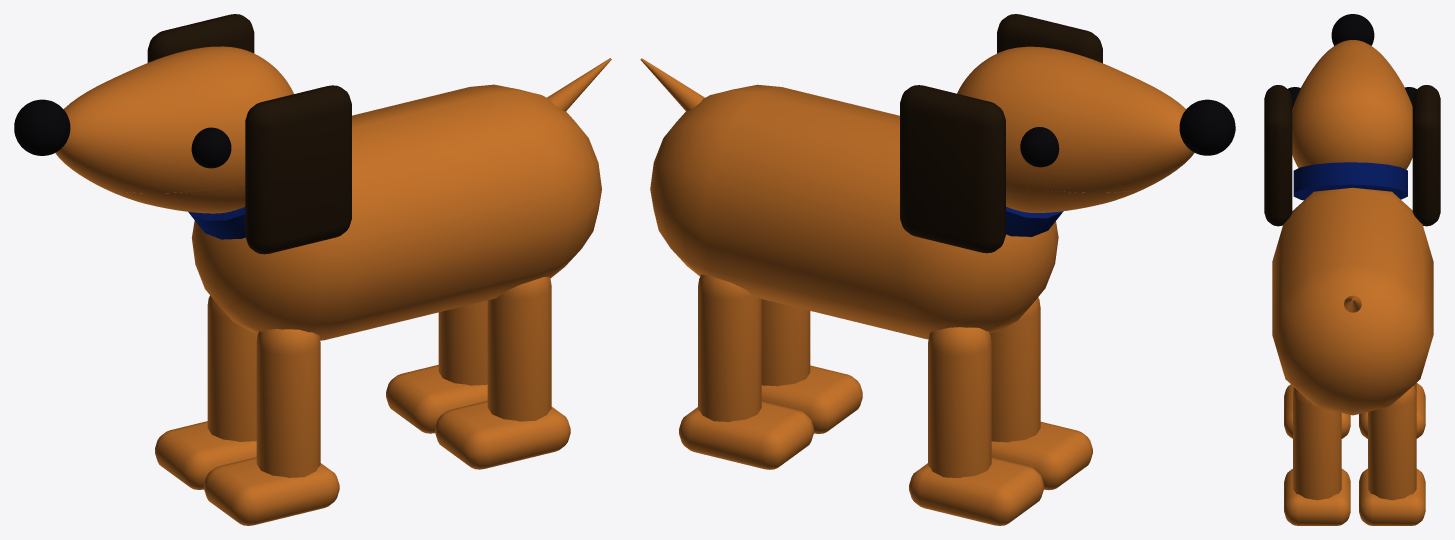
Rendered from dog2.dae.
3 views of the same model, side by side, from view 1: azimuth 30°, elevation 25°; view 2: azimuth 150°, elevation 25°; view 3: azimuth 270°, elevation 25° (orthographic). The views are drawn at different scales.
Parts seen in each view (by area): view 1: Capsule010, Sphere010, ChamferBox007, Capsule011, Capsule014, Capsule013, ChamferBox008, ChamferBox013, ChamferBox014, ChamferBox010, Capsule015, ChamferBox012 (+5 smaller); view 2: Capsule010, Sphere010, ChamferBox012, Capsule013, Capsule015, Capsule011, ChamferBox014, ChamferBox010, Capsule014, ChamferBox013, ChamferBox008, ChamferBox007 (+5 smaller); view 3: Capsule010, Sphere010, Capsule015, Capsule014, ChamferBox007, ChamferBox012, Cylinder001, ChamferBox013, ChamferBox014, Sphere012, ChamferBox010, ChamferBox008 (+1 smaller).
Boxes of the visible parts, box(x1,y1,x2,y2) form: Capsule010: box(192, 84, 601, 340); Sphere010: box(55, 46, 293, 193); ChamferBox007: box(245, 85, 351, 254); Capsule011: box(256, 329, 320, 477); Capsule014: box(487, 277, 551, 421); Capsule013: box(207, 295, 257, 441); ChamferBox008: box(204, 457, 339, 525); ChamferBox013: box(435, 400, 570, 469); ChamferBox014: box(386, 365, 487, 433); ChamferBox010: box(155, 421, 256, 489); Capsule015: box(438, 300, 487, 385); ChamferBox012: box(147, 14, 254, 62); Capsule010: box(650, 84, 1058, 339); Sphere010: box(957, 46, 1194, 192); ChamferBox012: box(900, 85, 1005, 253); Capsule013: box(928, 327, 991, 477); Capsule015: box(698, 274, 761, 421); Capsule011: box(989, 297, 1040, 442); ChamferBox014: box(679, 401, 813, 469); ChamferBox010: box(909, 457, 1043, 525); Capsule014: box(761, 299, 810, 386); ChamferBox013: box(761, 365, 862, 433); ChamferBox008: box(991, 421, 1092, 490); ChamferBox007: box(997, 14, 1102, 63); Capsule010: box(1272, 187, 1433, 415); Sphere010: box(1292, 40, 1412, 167); Capsule015: box(1368, 385, 1416, 500); Capsule014: box(1293, 388, 1341, 500); ChamferBox007: box(1264, 85, 1292, 226); ChamferBox012: box(1412, 85, 1440, 226); Cylinder001: box(1293, 162, 1407, 200); ChamferBox013: box(1284, 469, 1350, 525); ChamferBox014: box(1359, 468, 1425, 525); Sphere012: box(1331, 14, 1374, 45); ChamferBox010: box(1359, 383, 1425, 438); ChamferBox008: box(1284, 384, 1350, 438).
Size of the model in its own units: 46.13 by 33 by 15.62.
